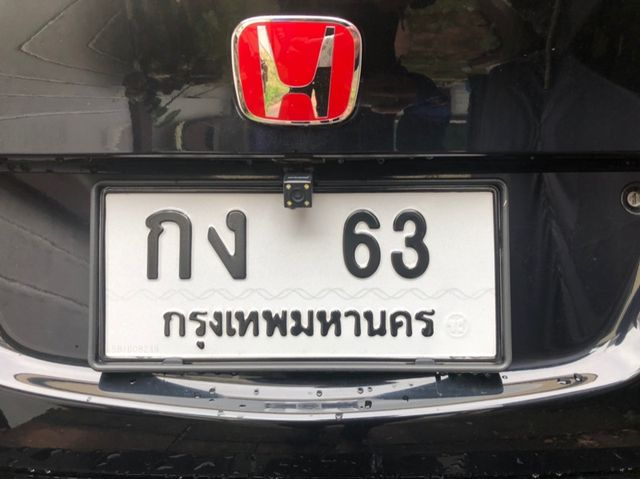Bangkok: (157, 302, 446, 356)
